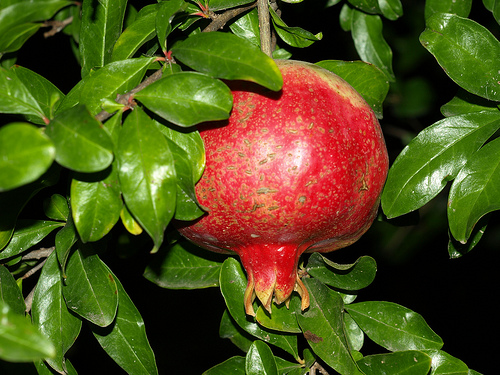pomogranate: (170, 56, 390, 322)
